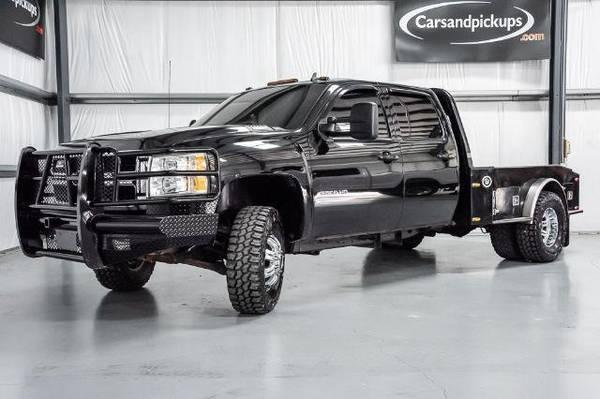Front_Bumper: (15, 190, 231, 260)
Front_Fender: (169, 127, 310, 235)
Front_Left_Door: (307, 134, 401, 234)
Front_Left_Window: (319, 87, 399, 140)
Front_Windshield: (188, 86, 324, 130)
Grille: (25, 148, 148, 201)
Hood: (44, 124, 277, 151)
Left_Headlight: (147, 145, 221, 200)
Rear_Fender: (470, 164, 580, 224)
Rear_Left_Door: (395, 135, 460, 227)
Rear_Left_Window: (386, 89, 449, 137)
Roof: (302, 76, 462, 137)
Wheel: (226, 204, 287, 318), (489, 190, 569, 260), (94, 258, 159, 290)
